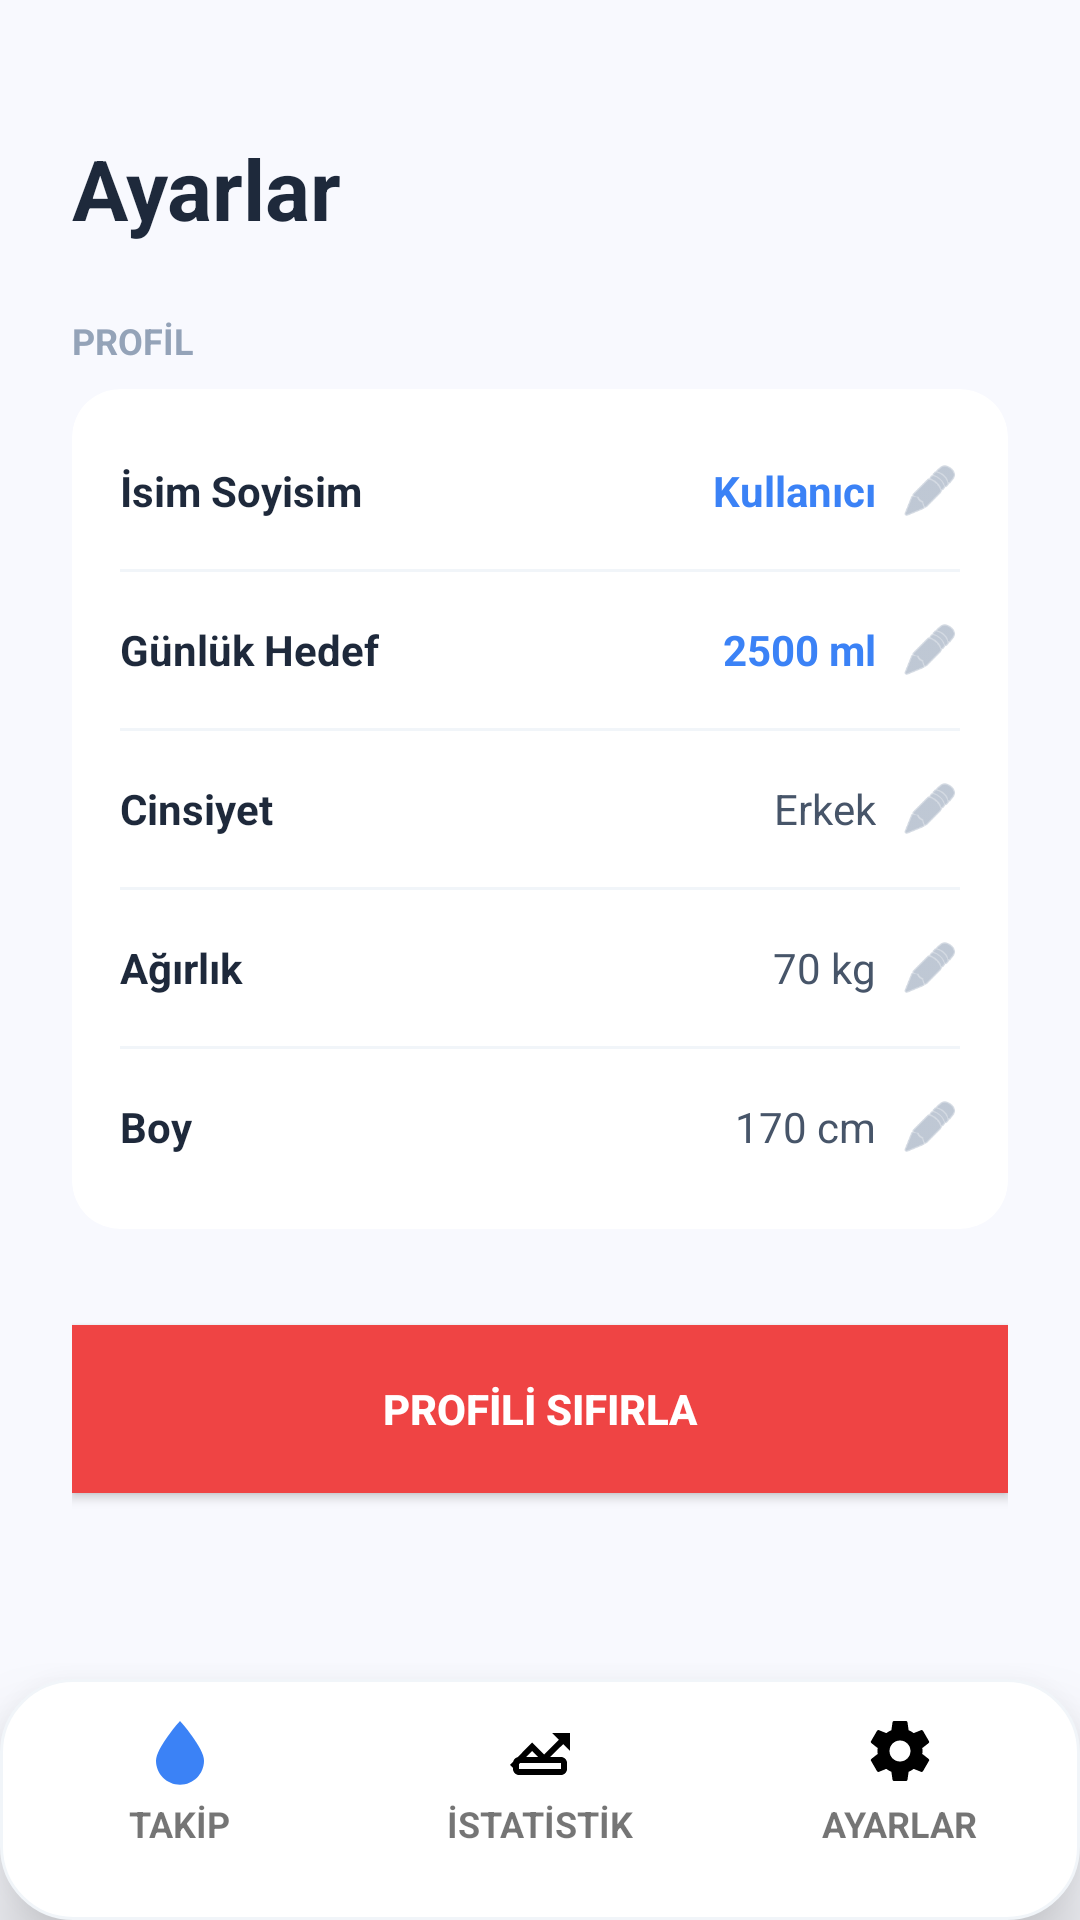

Icon click points for this 1080×1920 phone screenshot, format [x,y]:
edit: [930,490], [930,649], [930,808], [930,967], [930,1126]
